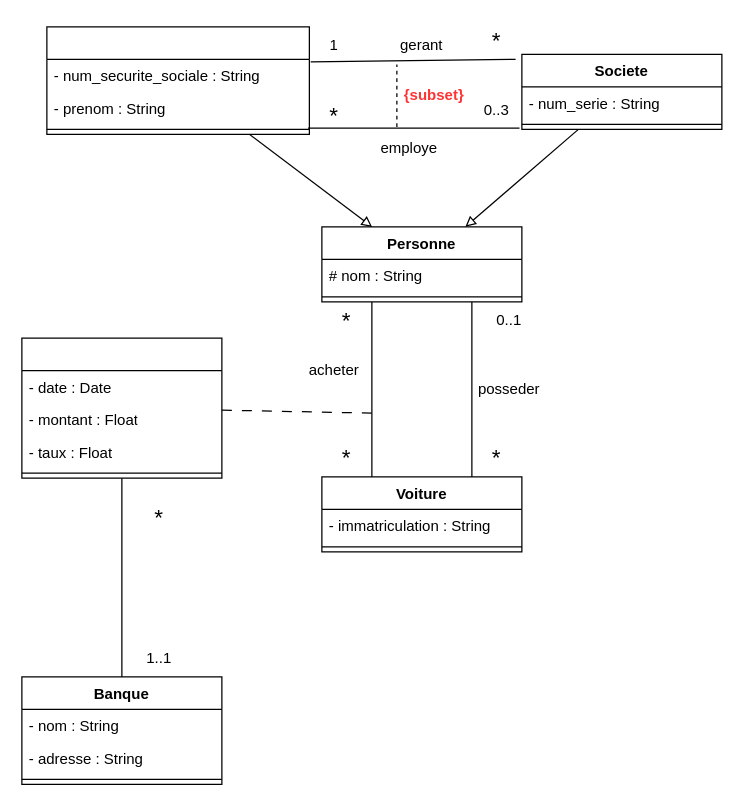
Image size: 744x806. Some labels were removed from this diagram. Here are the shapes that lost their labels. From the top down, the box of each, then its label:
(46, 26, 309, 134): Personne_physique
(21, 337, 222, 478): Emprunt
